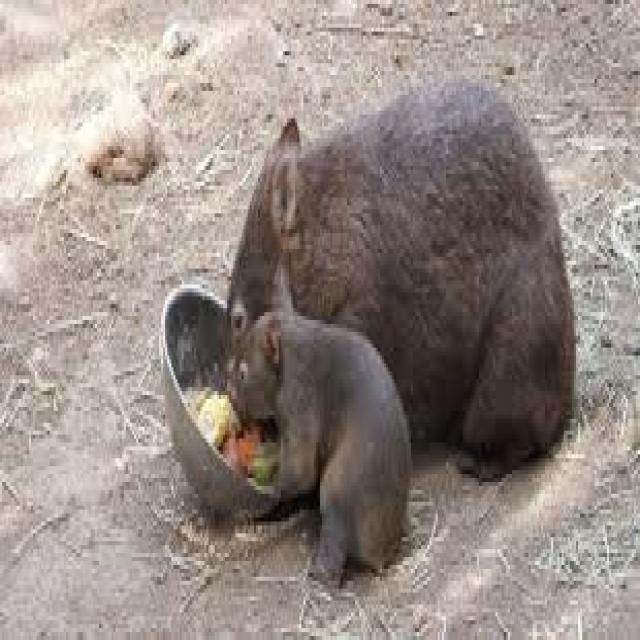wombats: (227, 75, 572, 454), (229, 257, 409, 577)
